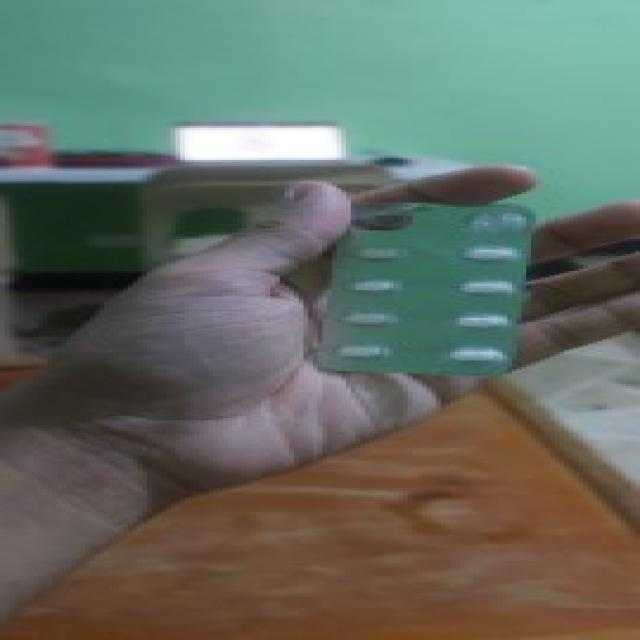Cacat: (327, 201, 536, 374)
Kemasan: (459, 208, 534, 243), (341, 208, 422, 238)
